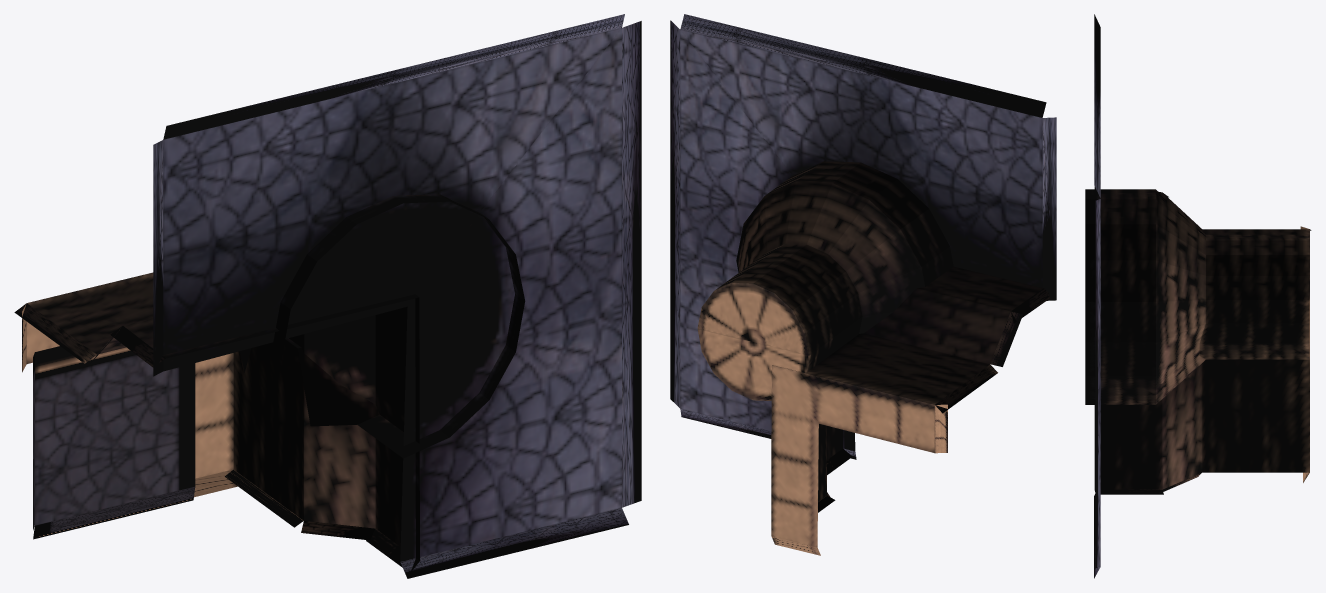
The model's file is ex_ColumnCorner0.obj.
3 renders of one model, left to right at view 1: azimuth 30°, elevation 25°; view 2: azimuth 150°, elevation 25°; view 3: azimuth 270°, elevation 25°, orthographic. The views are drawn at different scales.
Parts seen in each view (by area): view 1: ex_Column0.003_Cylinder.008, object 2; view 2: ex_Column0.003_Cylinder.008; view 3: ex_Column0.003_Cylinder.008.
Part boxes in pixels (x1=…): ex_Column0.003_Cylinder.008: x1=14, y1=14, x2=641, y2=578; object 2: x1=33, y1=346, x2=195, y2=539; ex_Column0.003_Cylinder.008: x1=670, y1=14, x2=1056, y2=555; ex_Column0.003_Cylinder.008: x1=1085, y1=14, x2=1311, y2=578.
Size of the model in its own units: 273 by 273 by 143.
